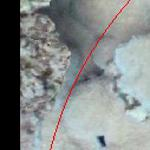alive: (18, 6, 146, 148)
